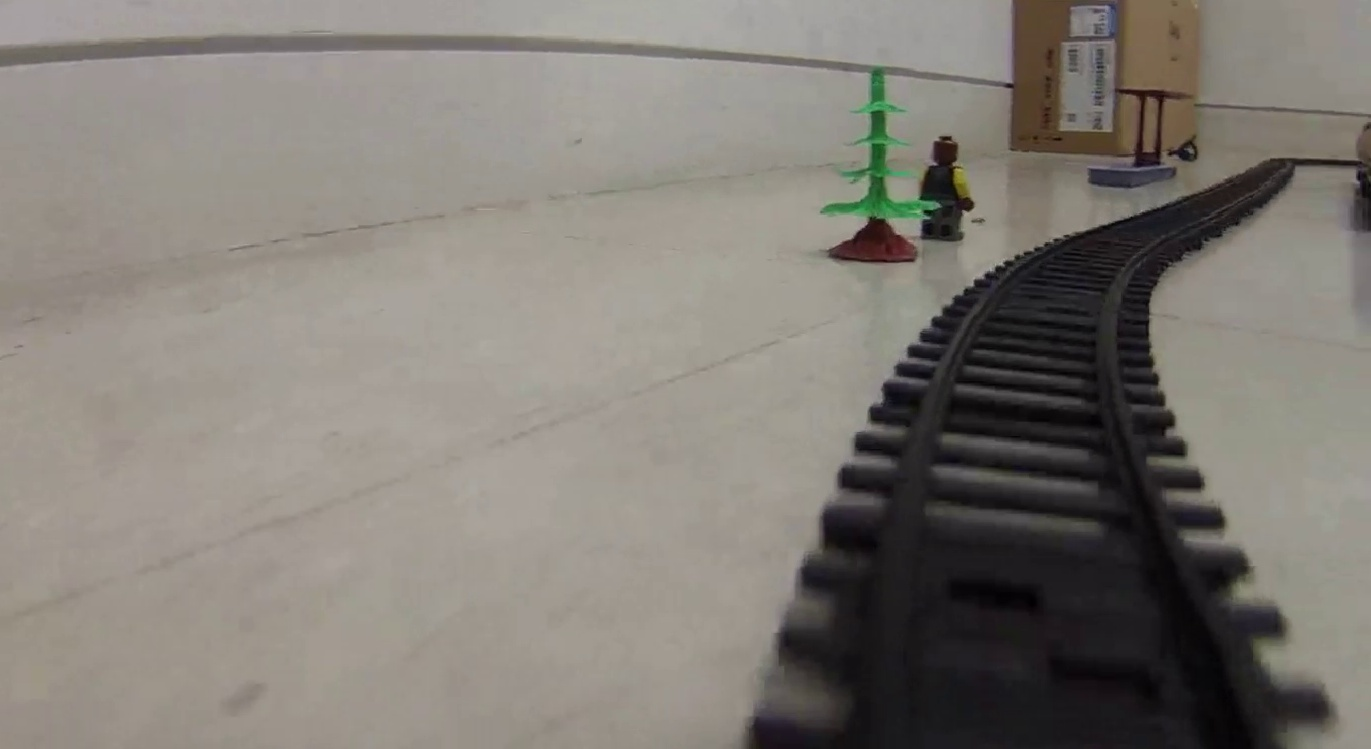people: (922, 135, 972, 242)
tree: (819, 69, 928, 263)
